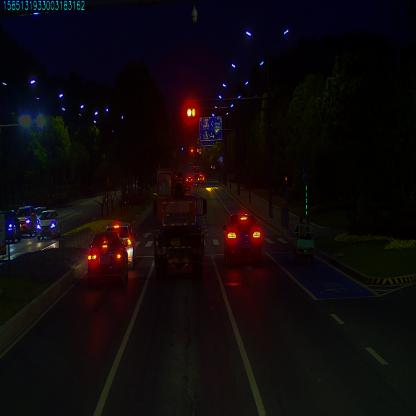traffic-light: (186, 106, 196, 117)
